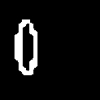chain: (15, 20, 36, 74)
